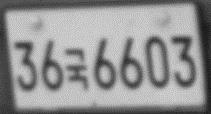0: (143, 35, 170, 87)
3: (169, 34, 198, 87), (12, 40, 38, 90)
6: (92, 37, 118, 90), (118, 38, 145, 89), (40, 38, 64, 90)
국: (63, 46, 89, 91)
